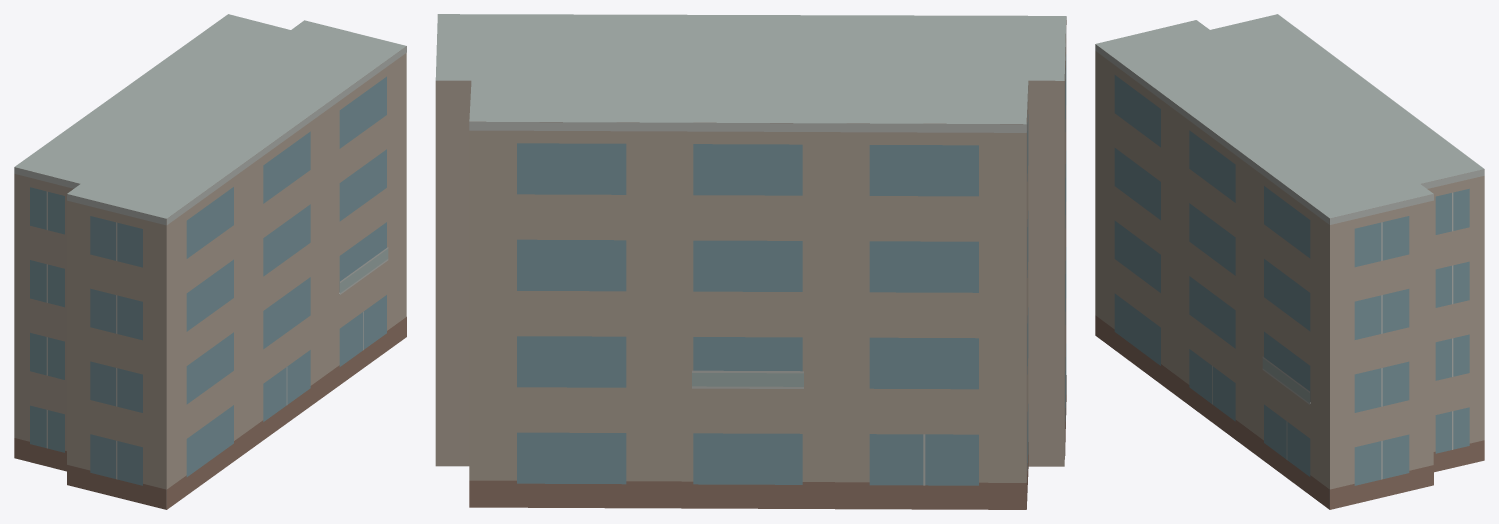
Rendered from survey-upis-32920755.glb.
3 views of the same model, side by side, from view 1: azimuth 30°, elevation 25°; view 2: azimuth 150°, elevation 25°; view 3: azimuth 270°, elevation 25° (orthographic). The views are drawn at different scales.
Parts seen in each view (by area): view 1: survey-upis-32920755.tmp; view 2: survey-upis-32920755.tmp; view 3: survey-upis-32920755.tmp.
Part boxes in pixels (x1,y1,x2,y2): survey-upis-32920755.tmp: [14, 14, 406, 509]; survey-upis-32920755.tmp: [435, 14, 1066, 509]; survey-upis-32920755.tmp: [1095, 14, 1484, 509].
Size of the model in its own units: 16.03 by 10.65 by 12.9.
